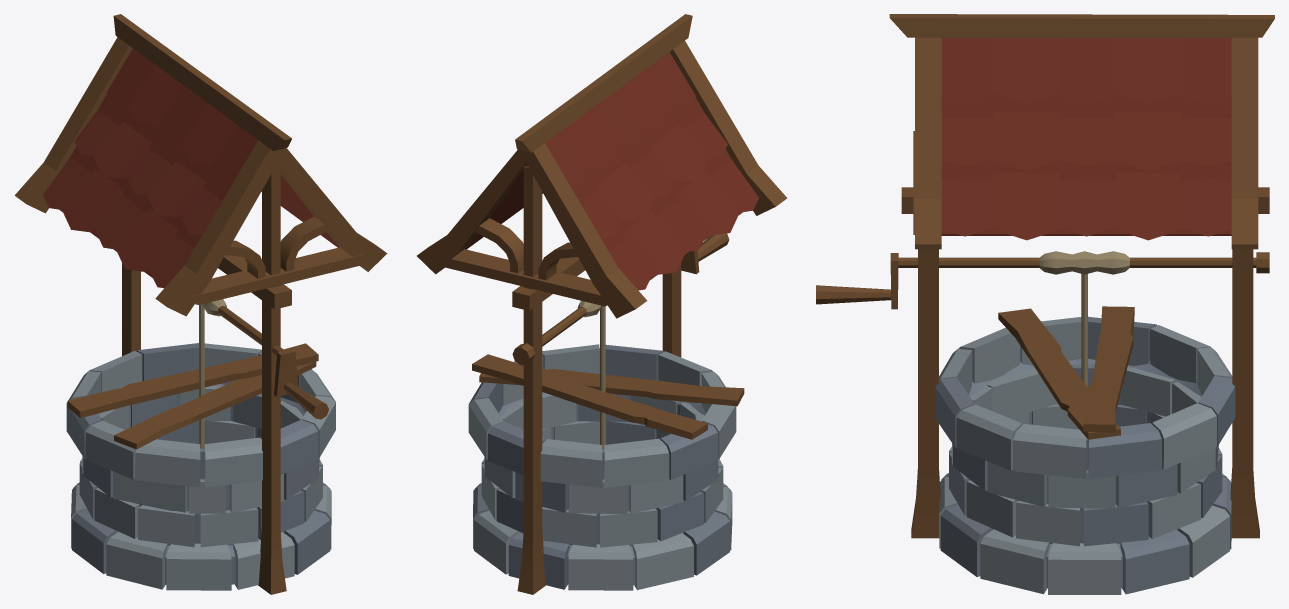
Rendered from well.glb.
3 renders of one model, left to right at view 1: azimuth 30°, elevation 25°; view 2: azimuth 150°, elevation 25°; view 3: azimuth 270°, elevation 25°, orthographic. The views are drawn at different scales.
Parts seen in each view (by area): view 1: Well; view 2: Well; view 3: Well.
Part boxes in pixels (x1,y1,x2,y2): Well: (15,14,387,594); Well: (417,14,787,594); Well: (816,14,1274,594).
Size of the model in its own units: 0.6664 by 1.25 by 1.
